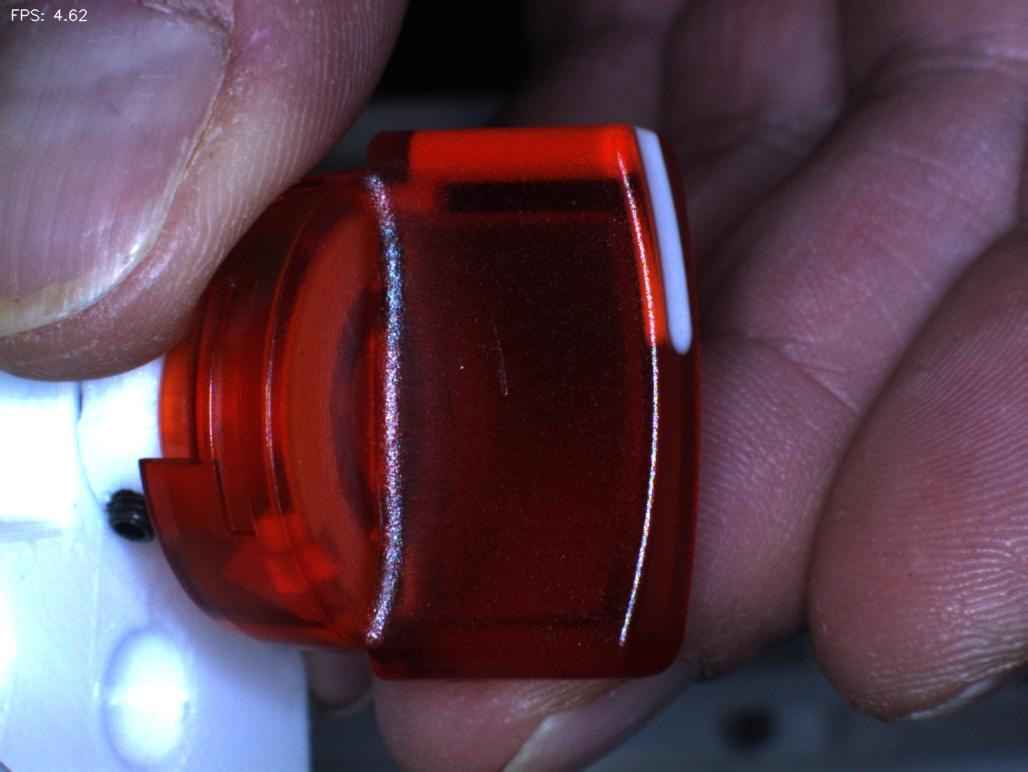Givrage: (459, 279, 552, 436)
